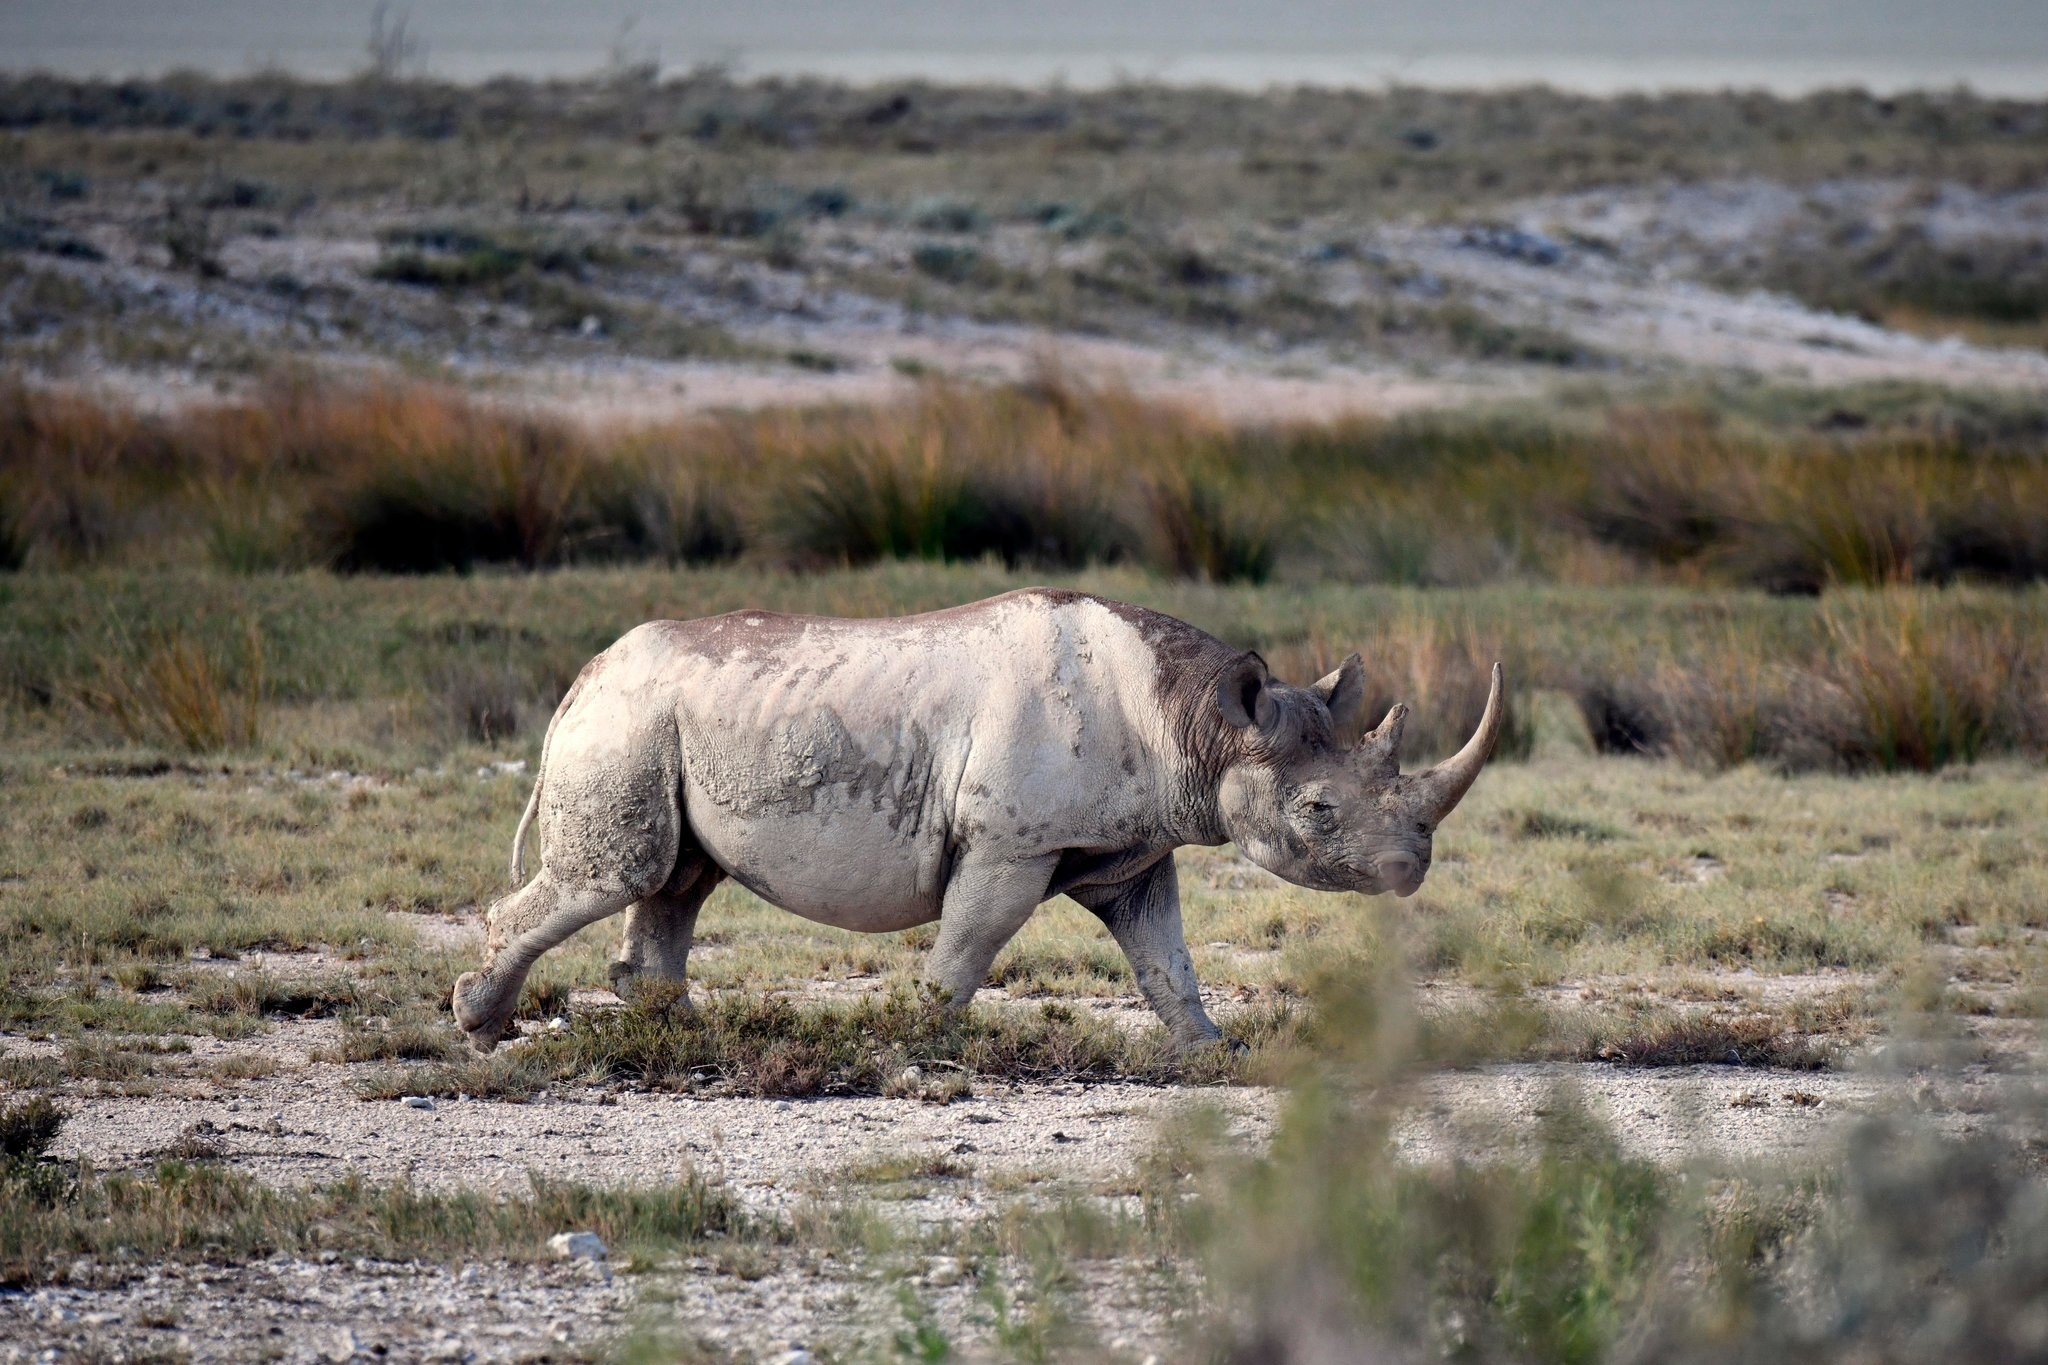rhino: (448, 579, 1515, 1066)
